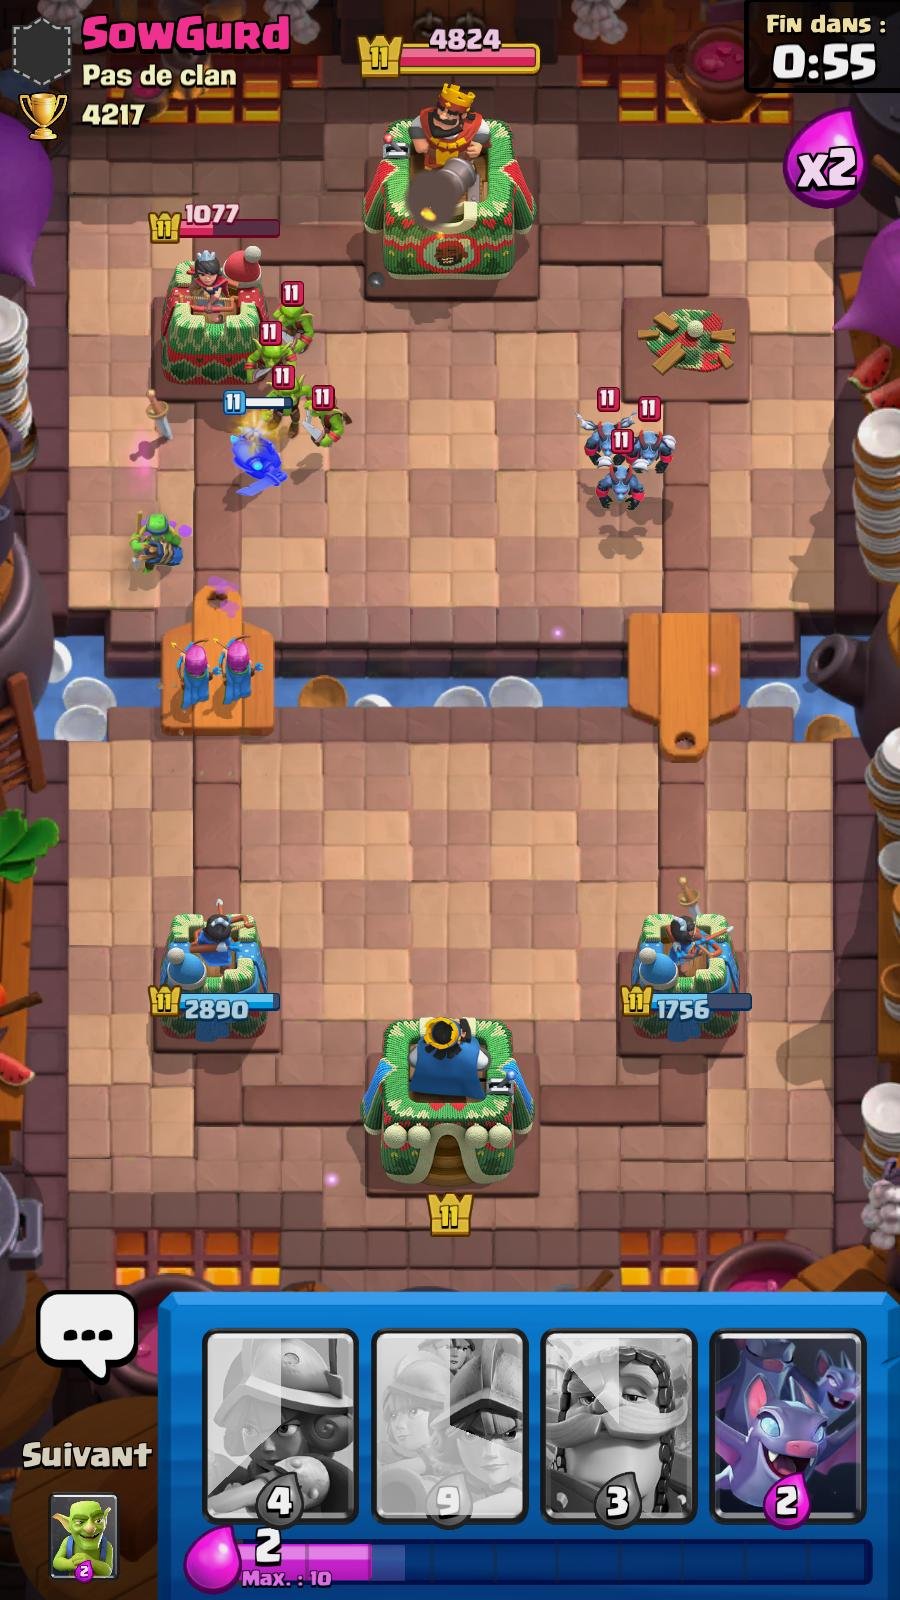archere: (209, 633, 260, 704), (169, 633, 214, 709)
gargouille: (578, 385, 635, 459), (630, 391, 673, 480), (596, 459, 643, 512)
gobelin: (303, 382, 352, 455), (264, 364, 313, 432), (273, 279, 316, 354), (246, 319, 292, 384)
gobelin_lances: (135, 510, 184, 580)
mini_PEKKA: (226, 390, 290, 500)
